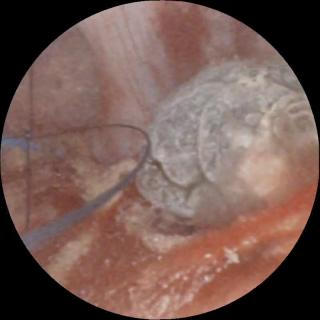stone: (137, 59, 316, 226)
tissue: (7, 6, 314, 315)
